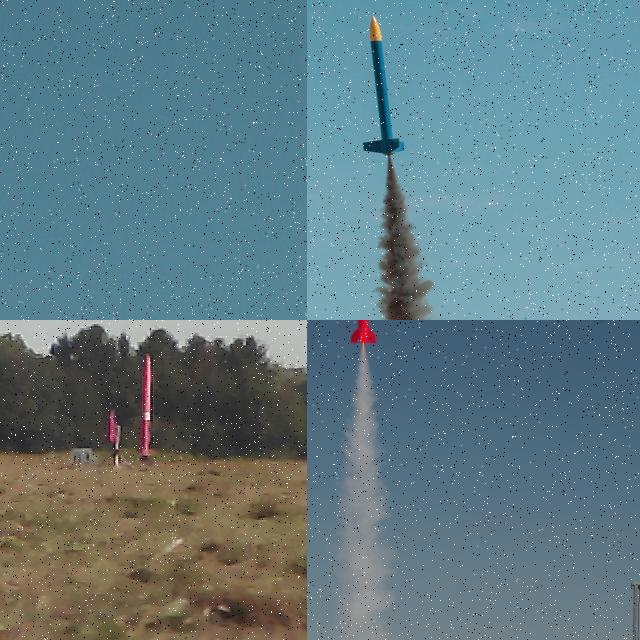Rocket: (361, 14, 407, 155), (140, 353, 152, 457), (348, 320, 378, 346), (108, 407, 119, 442)
